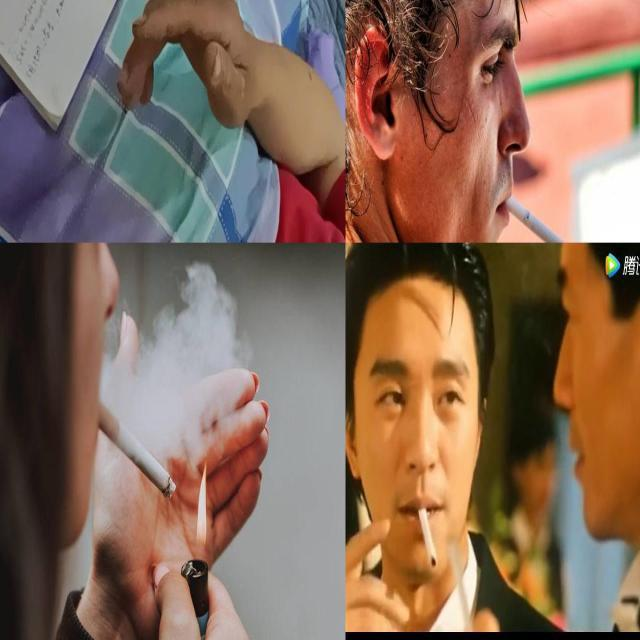smoking: (91, 400, 178, 500), (504, 192, 582, 242), (417, 508, 437, 568)
